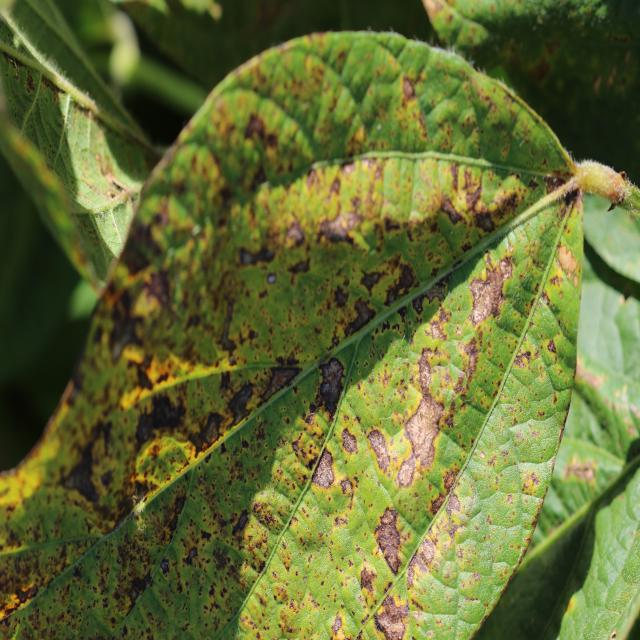Bacterial_Blight: (100, 345, 291, 491), (241, 496, 327, 639), (230, 241, 323, 345), (441, 160, 529, 241), (400, 348, 450, 483), (62, 432, 107, 503), (467, 258, 513, 326), (380, 154, 419, 233), (387, 73, 426, 151), (481, 484, 524, 536), (416, 571, 458, 618), (382, 264, 419, 308), (373, 596, 409, 640), (0, 582, 38, 623), (99, 272, 136, 312), (141, 267, 172, 309), (320, 213, 358, 245), (525, 54, 553, 85), (218, 302, 236, 349), (440, 195, 466, 225), (416, 354, 435, 393), (130, 491, 149, 530), (134, 411, 155, 446), (564, 461, 597, 483), (603, 176, 627, 205), (244, 113, 267, 142), (129, 573, 152, 602), (359, 269, 385, 294), (284, 220, 306, 248), (429, 317, 449, 341), (287, 256, 311, 276), (546, 338, 557, 355), (159, 558, 170, 575), (266, 272, 277, 285), (618, 170, 628, 182)
Soybean: (0, 32, 640, 640)
